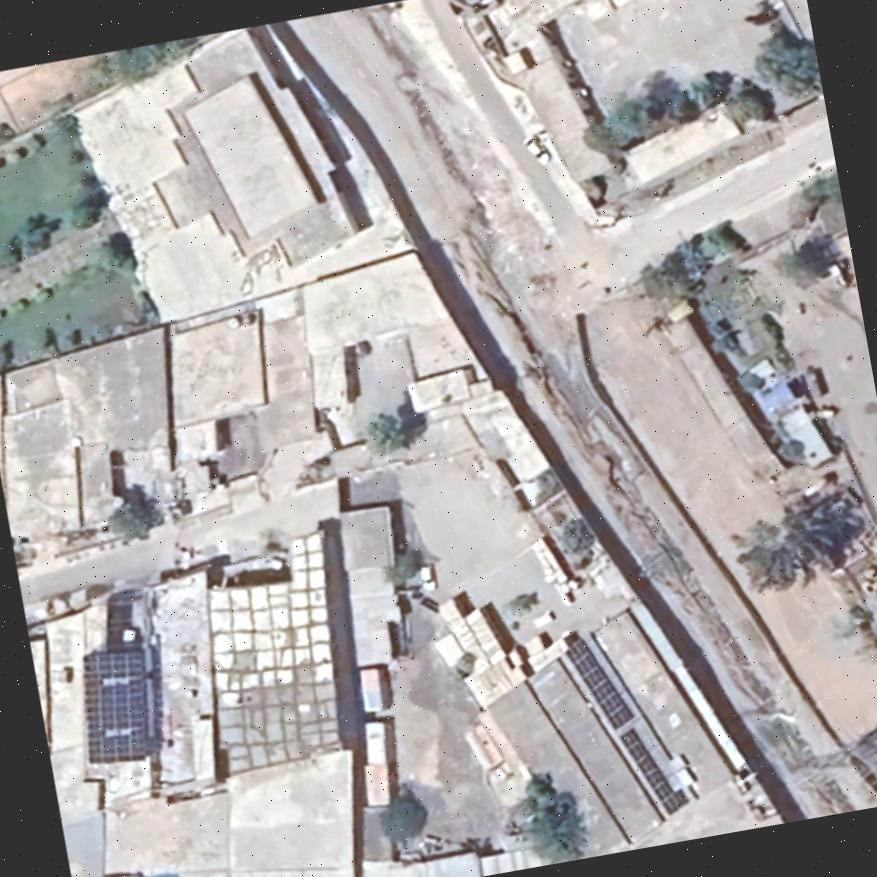Solarpanel: (554, 628, 692, 823), (80, 641, 158, 771)
